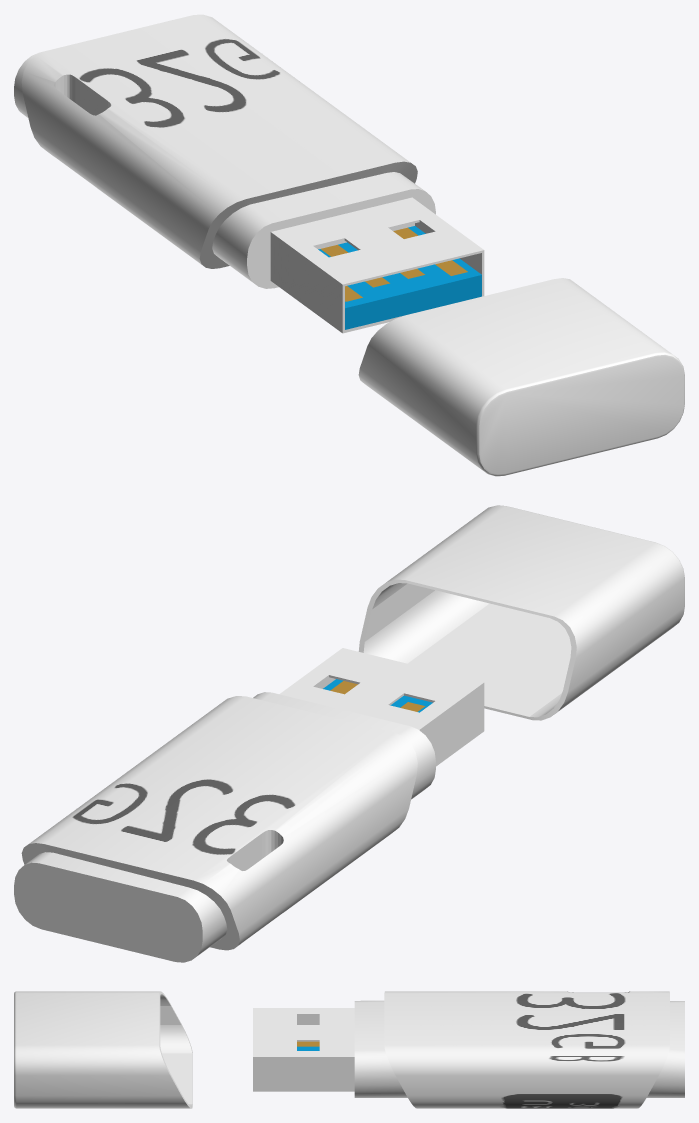
Rendered from USB Flash Drive.fbx.
3 renders of one model, top to bottom at view 1: azimuth 30°, elevation 25°; view 2: azimuth 150°, elevation 25°; view 3: azimuth 270°, elevation 25°, orthographic. The views are drawn at different scales.
Visible parts, largest first — view 1: Cube, Cube.001; view 2: Cube, Cube.001; view 3: Cube, Cube.001.
Part boxes in pixels (x1=…): Cube: x1=14, y1=14, x2=484, y2=333; Cube.001: x1=358, y1=278, x2=684, y2=476; Cube: x1=14, y1=648, x2=484, y2=962; Cube.001: x1=358, y1=505, x2=684, y2=720; Cube: x1=253, y1=991, x2=684, y2=1108; Cube.001: x1=14, y1=991, x2=192, y2=1108.
Bounding box in the file's own units: 200 × 78.83 × 788.
Materials: 4 (1 with a texture image).
